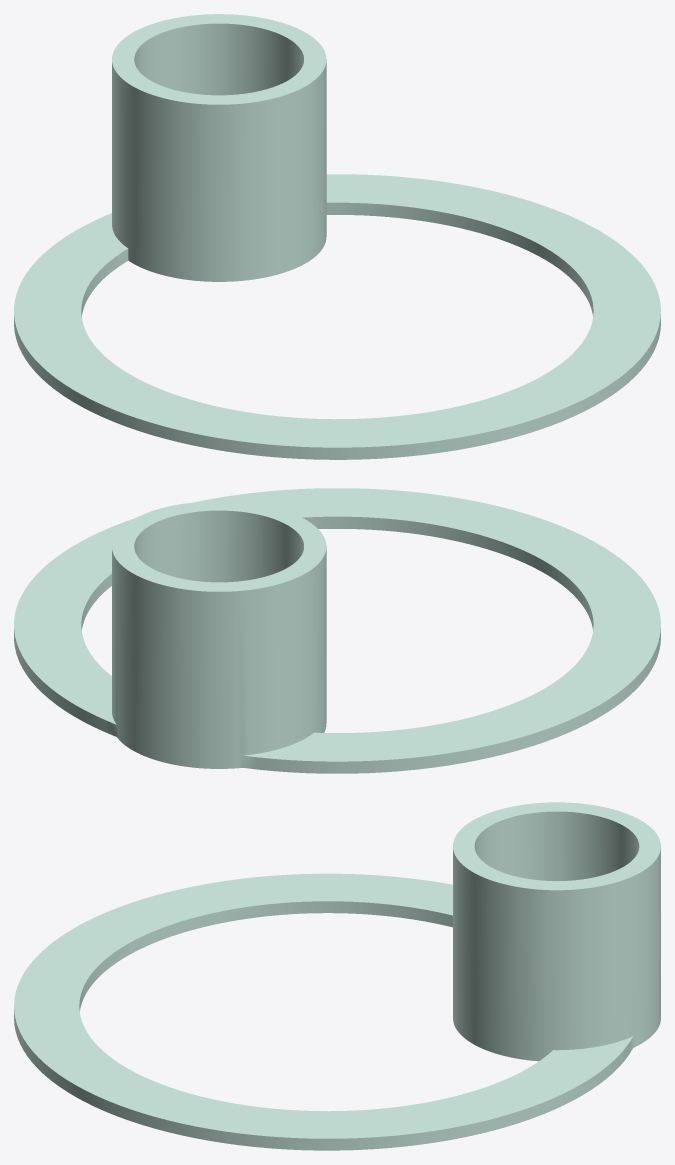
3 views of the same model, one above another, from view 1: azimuth 30°, elevation 25°; view 2: azimuth 150°, elevation 25°; view 3: azimuth 270°, elevation 25° (orthographic). The views are drawn at different scales.
Parts seen in each view (by area): view 1: Renderer Node; view 2: Renderer Node; view 3: Renderer Node.
Part boxes in pixels (x1=…): Renderer Node: x1=14, y1=14, x2=660, y2=459; Renderer Node: x1=14, y1=488, x2=660, y2=773; Renderer Node: x1=14, y1=802, x2=660, y2=1150.
Bounding box in the file's own units: 1.5 × 0.4531 × 1.55.
